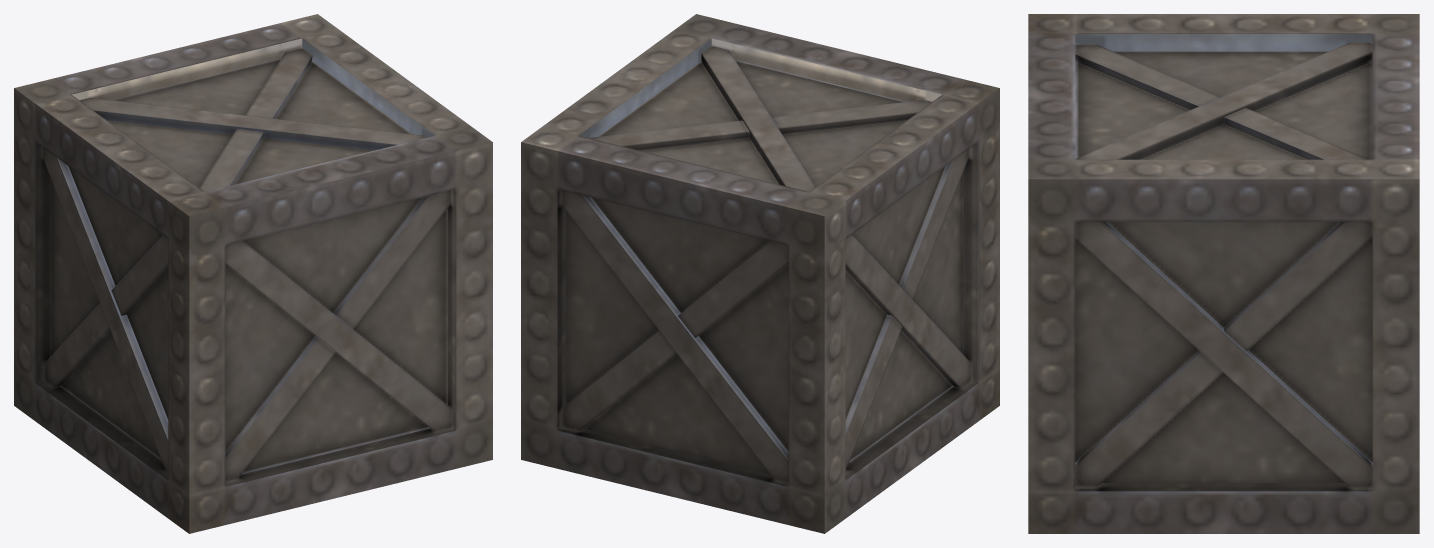
File: Container02.fbx
The picture shows the model from 3 angles, left to right: view 1: azimuth 30°, elevation 25°; view 2: azimuth 150°, elevation 25°; view 3: azimuth 270°, elevation 25°; orthographic projection. The views are drawn at different scales.
Parts seen in each view (by area): view 1: container03; view 2: container03; view 3: container03.
Boxes of the visible parts, x1=… form: container03: x1=14, y1=14, x2=492, y2=533; container03: x1=521, y1=14, x2=999, y2=533; container03: x1=1028, y1=14, x2=1419, y2=533.
Size of the model in its own units: 0.9995 by 0.999 by 0.9984.
